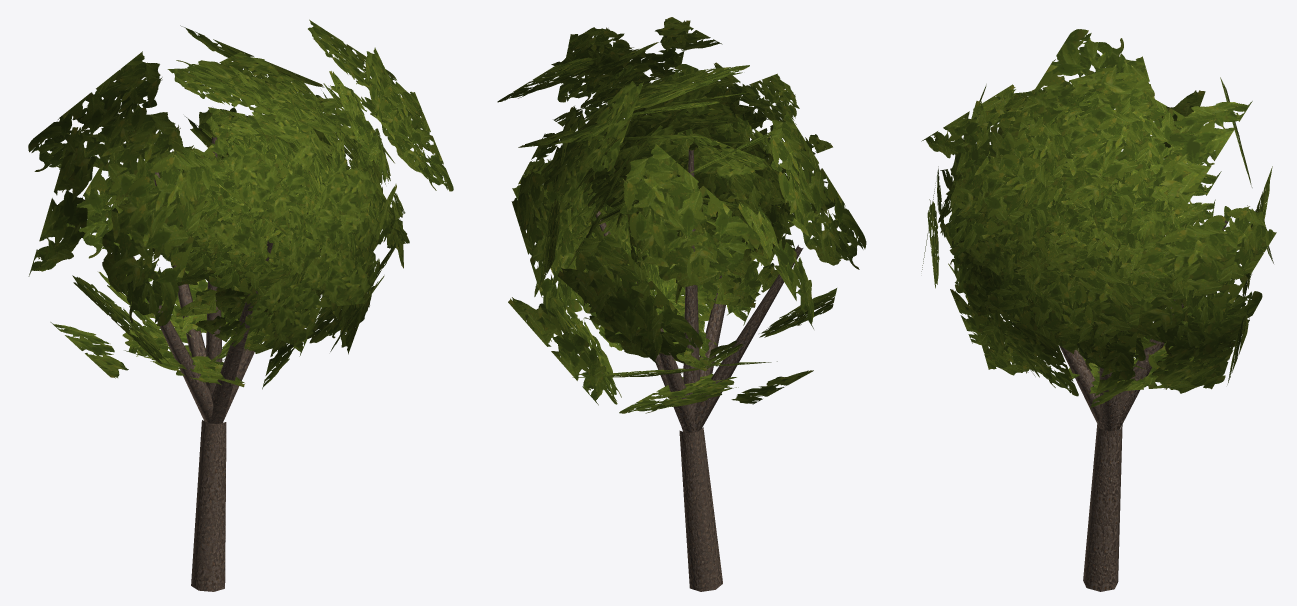
Rendered from tree_small.glb.
3 renders of one model, left to right at view 1: azimuth 30°, elevation 25°; view 2: azimuth 150°, elevation 25°; view 3: azimuth 270°, elevation 25°, orthographic. The views are drawn at different scales.
Parts seen in each view (by area): view 1: tree_small_foliage, tree_small_body; view 2: tree_small_foliage, tree_small_body; view 3: tree_small_foliage, tree_small_body.
Part boxes in pixels (<box>): tree_small_foliage: <box>28,19,453,389</box>; tree_small_body: <box>133,137,273,591</box>; tree_small_foliage: <box>497,17,866,413</box>; tree_small_body: <box>594,149,803,591</box>; tree_small_foliage: <box>921,29,1276,409</box>; tree_small_body: <box>1059,216,1230,591</box>.
Size of the model in its own units: 0.1713 by 0.241 by 0.151.
Materials: 2 (2 with a texture image).
